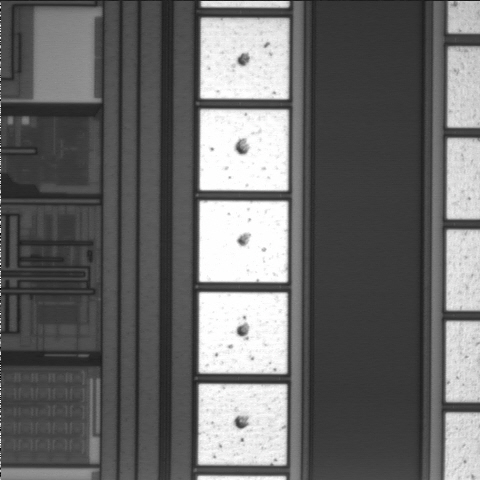pad: (199, 109, 289, 191), (199, 292, 288, 374), (200, 18, 289, 99), (199, 201, 288, 282), (198, 384, 287, 465)
